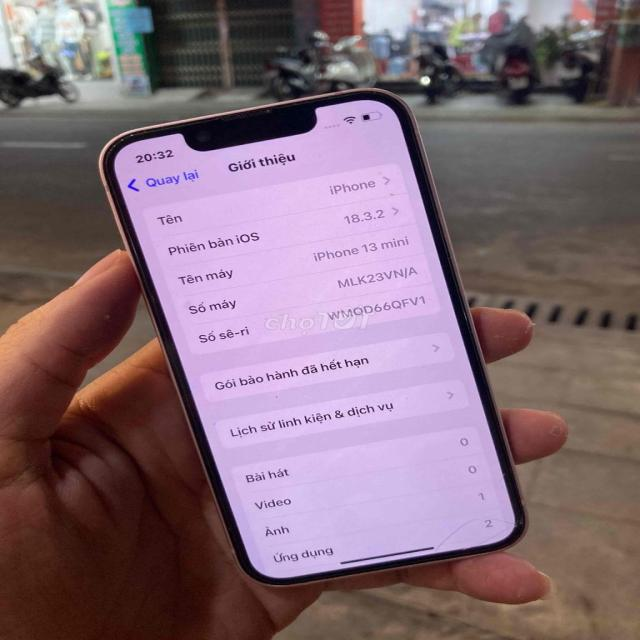gen_12_13: (92, 84, 541, 592)
